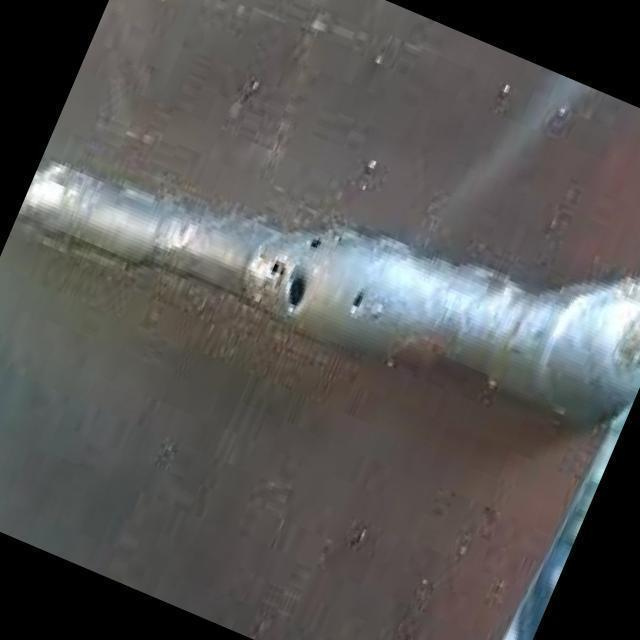defect: (267, 258, 311, 314), (302, 224, 328, 258), (345, 285, 366, 317)
